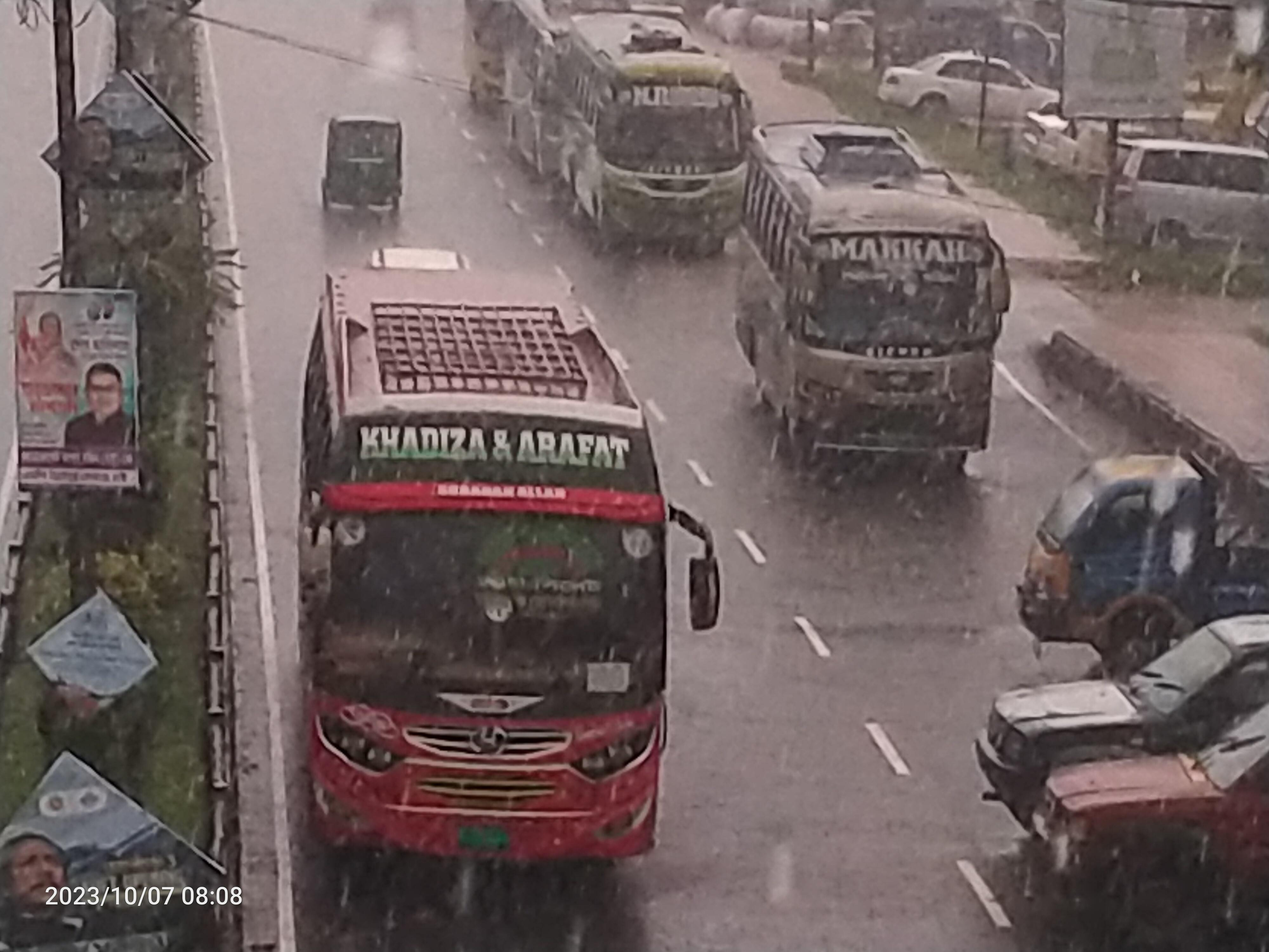Bus: (202, 234, 755, 909), (724, 109, 1024, 511), (521, 7, 763, 267)
Car: (1083, 124, 1269, 276), (864, 36, 1104, 143)
Truck: (1000, 421, 1269, 675), (959, 601, 1269, 820), (1035, 743, 1269, 944)
